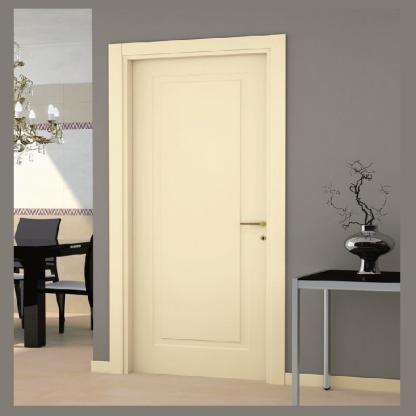door: (132, 54, 266, 381)
